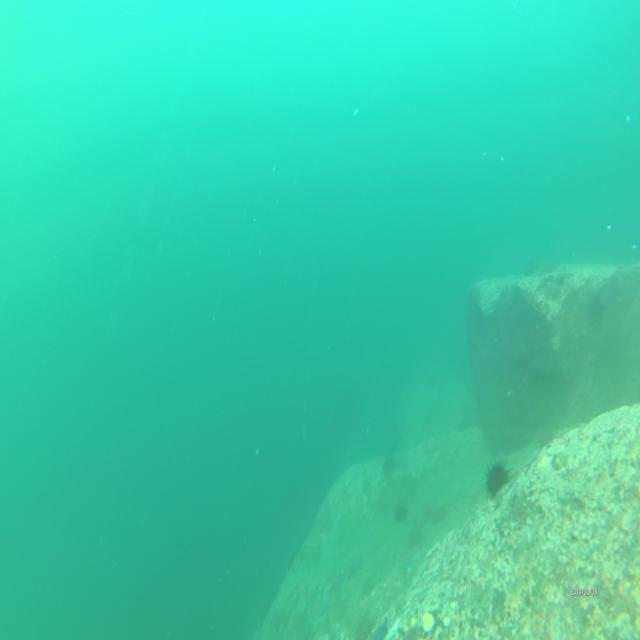echinus: (483, 455, 513, 497), (406, 522, 424, 546), (431, 496, 445, 526), (382, 451, 396, 478), (392, 502, 409, 522)
